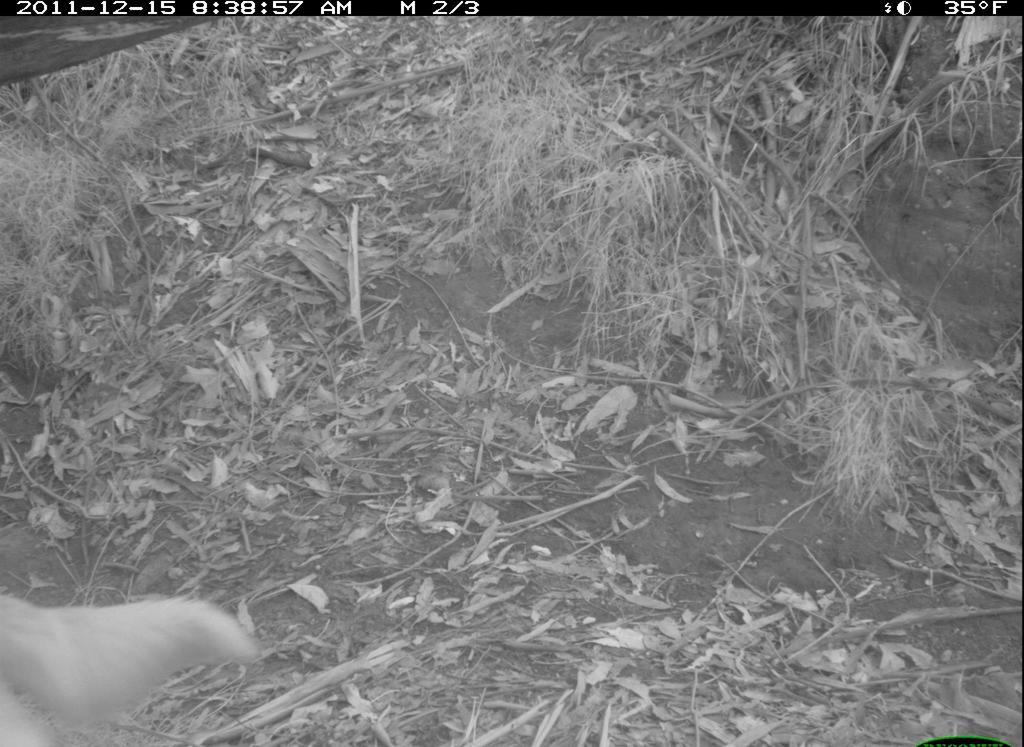dog: (3, 577, 277, 747)
